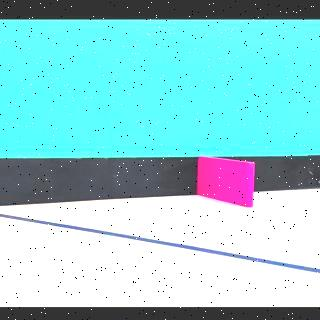xparking: (199, 162, 251, 206)
